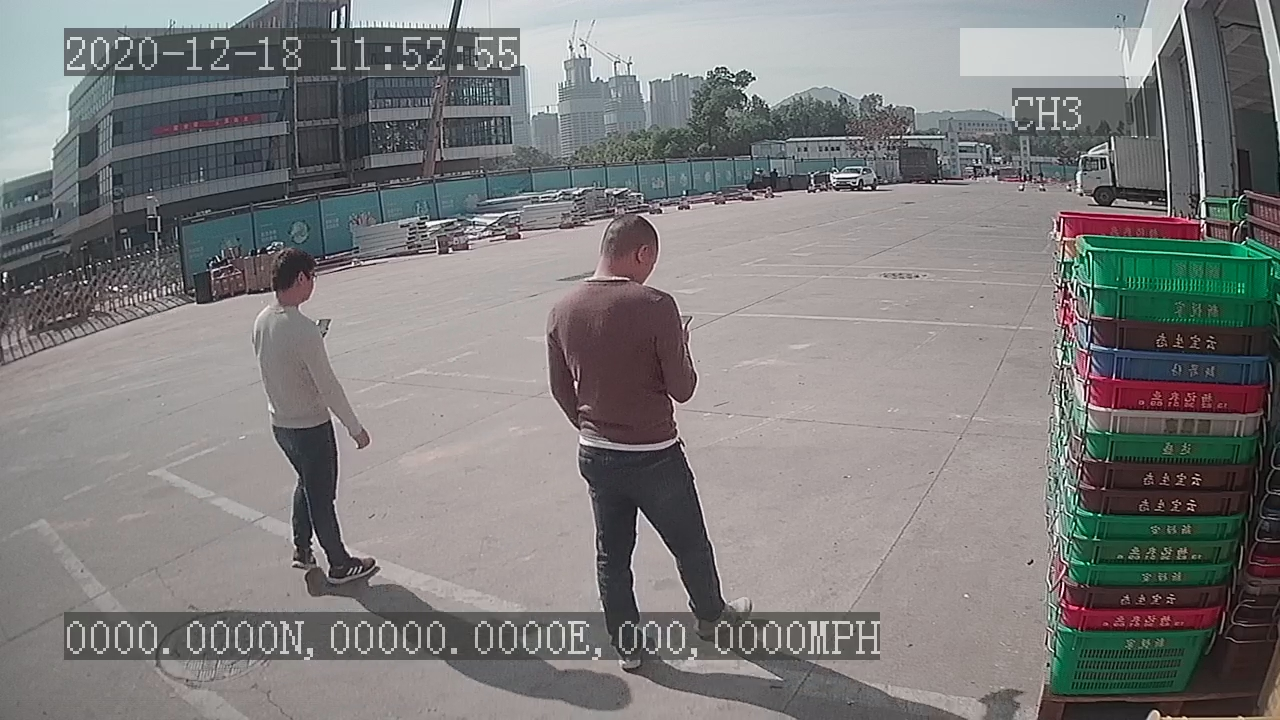person: (247, 235, 397, 592)
